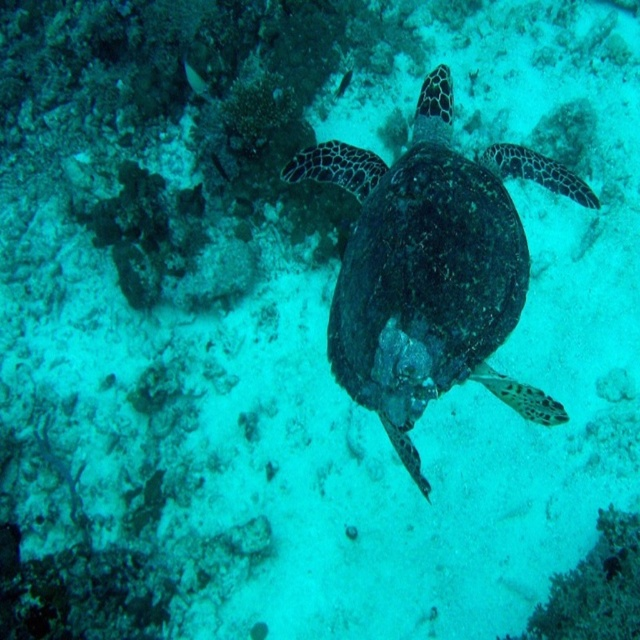Sea turtle: (282, 62, 602, 506)
